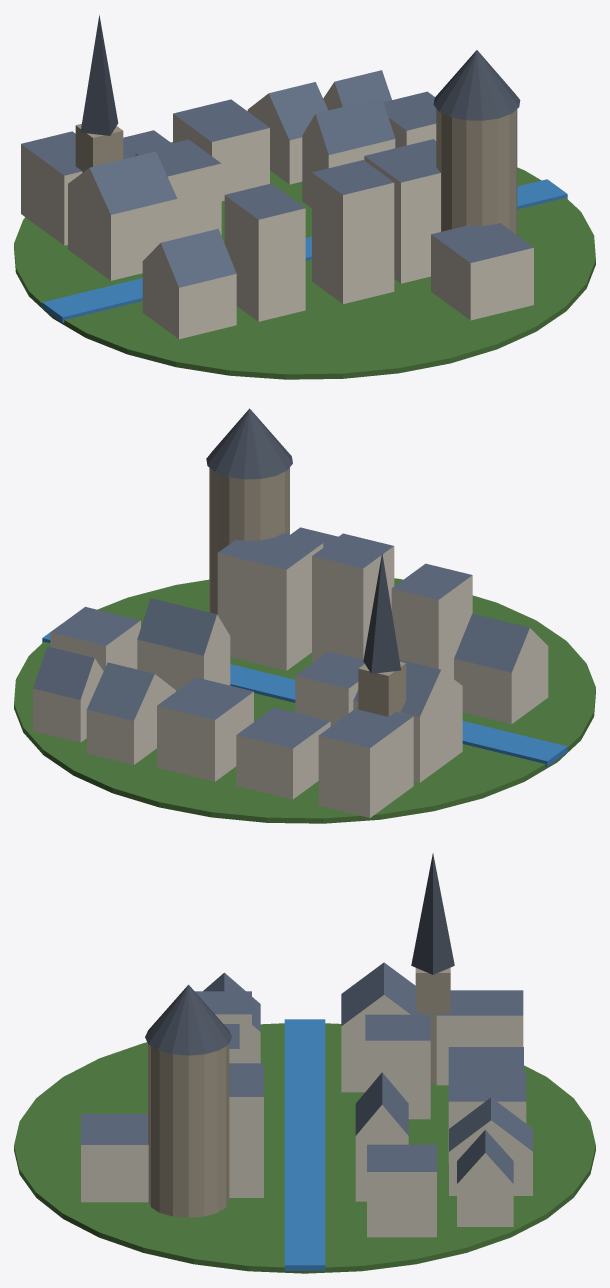
Rendered from waterford.glb.
3 renders of one model, top to bottom at view 1: azimuth 30°, elevation 25°; view 2: azimuth 150°, elevation 25°; view 3: azimuth 270°, elevation 25°, orthographic.
Bounding box in the file's own units: 2 × 0.87 × 2.
